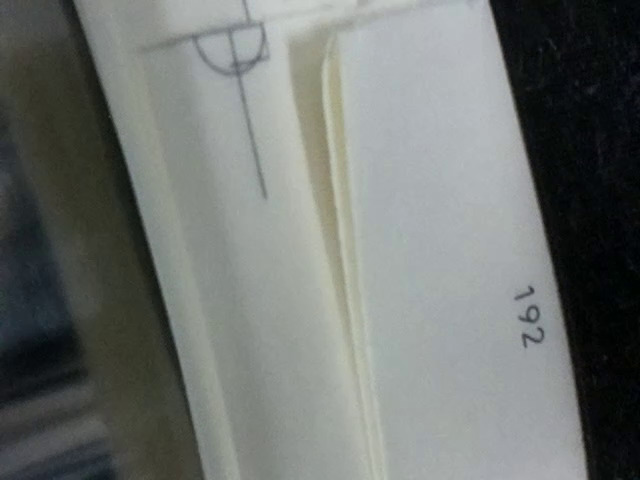aligned: (160, 1, 288, 96)
